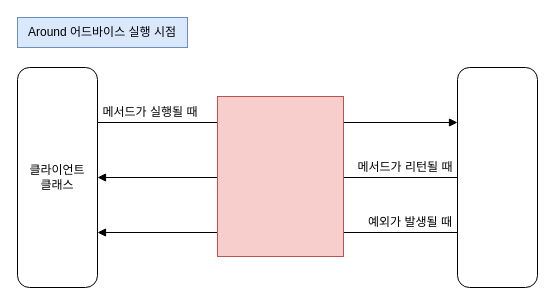
The diagram is 555 pixels wide and 305 high, and some of its shapes have lost their labels. The box of each missing label's shape, as (x1, y1, x2, y2) in pixels:
Around 어드바이스: (216, 96, 344, 256)
서버 클래스: (456, 66, 538, 288)
